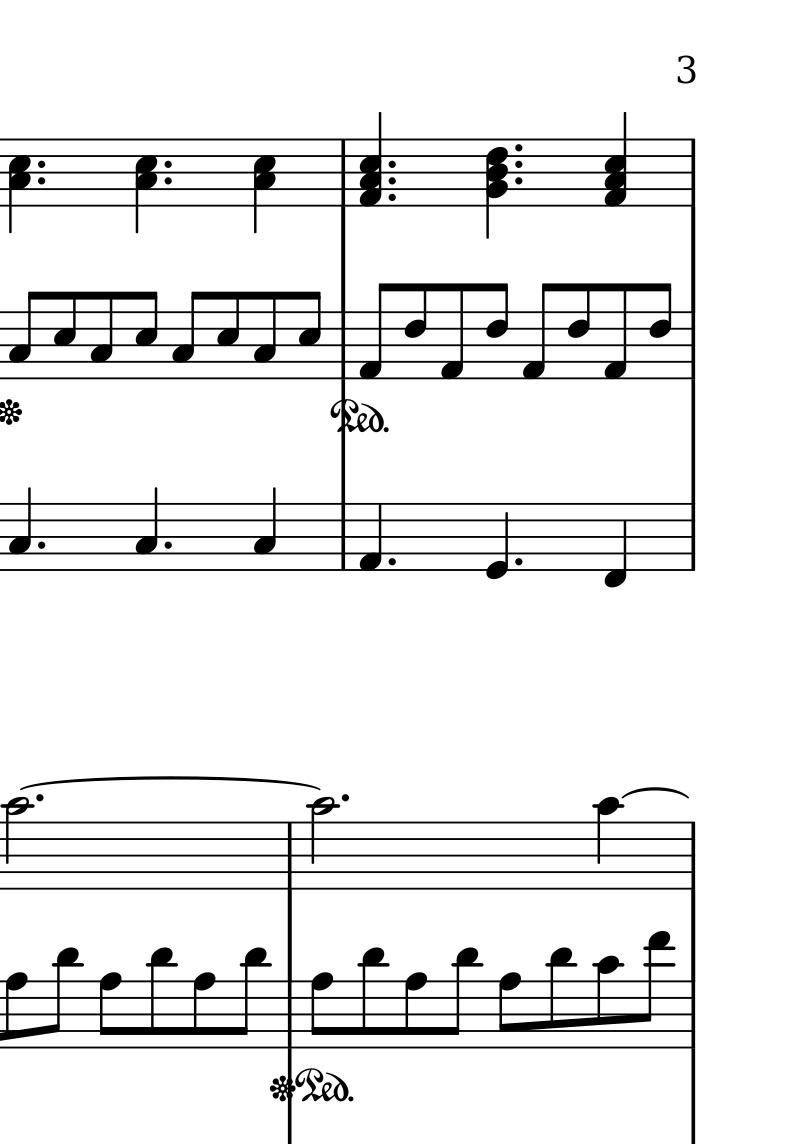2_10: (309, 795, 338, 893), (4, 795, 32, 892)
3: (677, 54, 697, 86)
4_-1: (603, 500, 629, 589)
4_0: (483, 501, 511, 582)
4_1: (358, 502, 384, 573)
4_10: (595, 796, 623, 893)
4_3: (134, 486, 160, 574), (7, 486, 33, 573), (253, 486, 278, 572)
4_3_5: (7, 137, 33, 234), (134, 138, 160, 235), (251, 136, 277, 233)
4_th: (357, 111, 386, 210), (602, 112, 628, 208), (482, 138, 506, 236)
8_1: (357, 281, 394, 382), (520, 280, 556, 382), (602, 280, 630, 382), (440, 282, 465, 383)
8_10: (596, 955, 623, 1051)
8_11: (46, 946, 82, 1053), (234, 946, 269, 1051), (446, 947, 481, 1052), (149, 945, 177, 1052), (548, 946, 576, 1052), (360, 946, 387, 1051)
8_13: (637, 932, 675, 1049)
8_3: (171, 289, 205, 381), (7, 290, 41, 380), (252, 290, 279, 382), (89, 290, 115, 382)
8_5: (215, 290, 241, 381), (298, 288, 323, 382), (53, 290, 78, 381), (134, 290, 159, 381)
8_6: (565, 281, 592, 383), (484, 280, 510, 384), (647, 280, 673, 383), (402, 281, 428, 383)
8_8: (404, 971, 429, 1051), (498, 971, 523, 1051), (193, 970, 217, 1053), (98, 971, 123, 1050), (310, 971, 335, 1050), (5, 971, 29, 1050)
Single_barline: (281, 980, 300, 1049), (683, 139, 702, 207), (683, 980, 701, 1049), (683, 312, 701, 380), (282, 823, 300, 890), (684, 824, 702, 890), (335, 140, 352, 208), (335, 504, 352, 570), (336, 312, 352, 380), (684, 504, 700, 570)
Slur: (18, 776, 321, 793), (621, 786, 690, 800)
dot: (511, 140, 527, 153), (33, 791, 46, 806), (161, 157, 175, 170), (35, 174, 48, 188), (512, 554, 525, 568), (386, 173, 399, 187), (513, 175, 526, 188), (339, 792, 351, 806), (511, 159, 526, 170), (35, 158, 48, 170), (162, 175, 175, 187), (386, 191, 399, 203), (386, 555, 398, 568), (386, 157, 398, 170), (35, 539, 47, 551), (162, 539, 174, 551)
